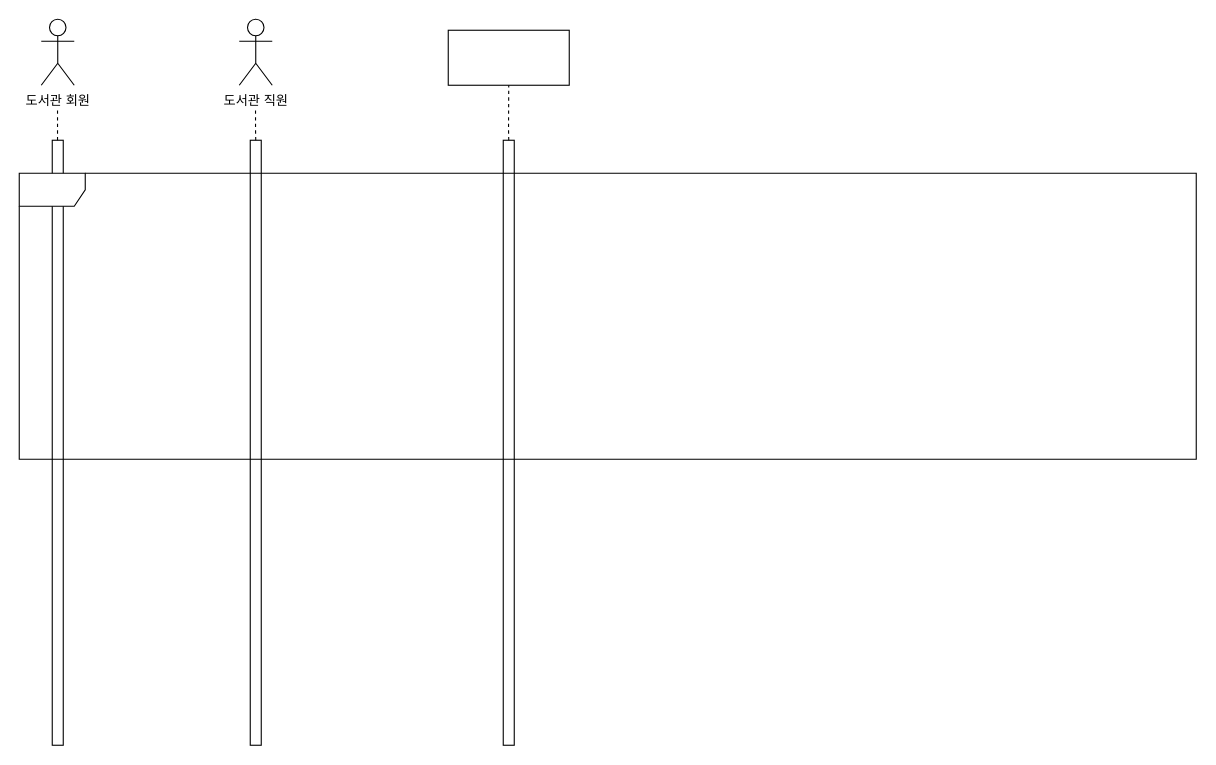
The diagram is 1216 pixels wide and 765 high, and some of its shapes have lost their labels. Each missing label, with the centre of its shape:
"alt" goes at point 607,315.
"Object" goes at point 508,57.
